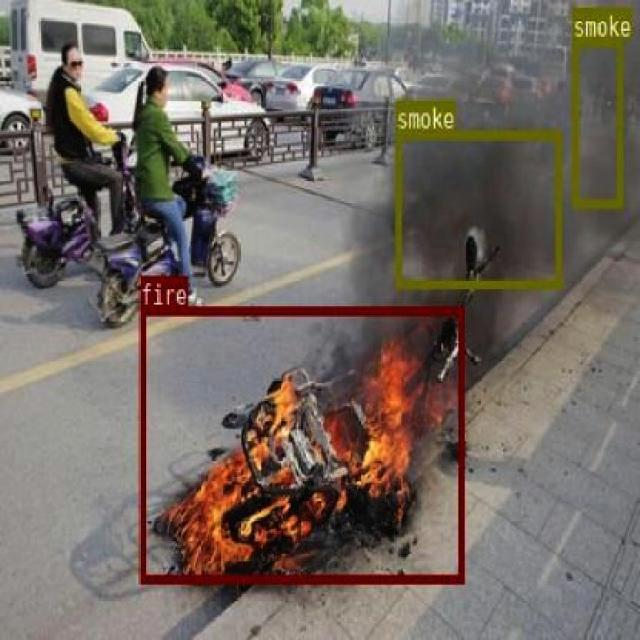fire: (138, 306, 464, 582)
smoke: (394, 130, 560, 286), (570, 38, 622, 207)
